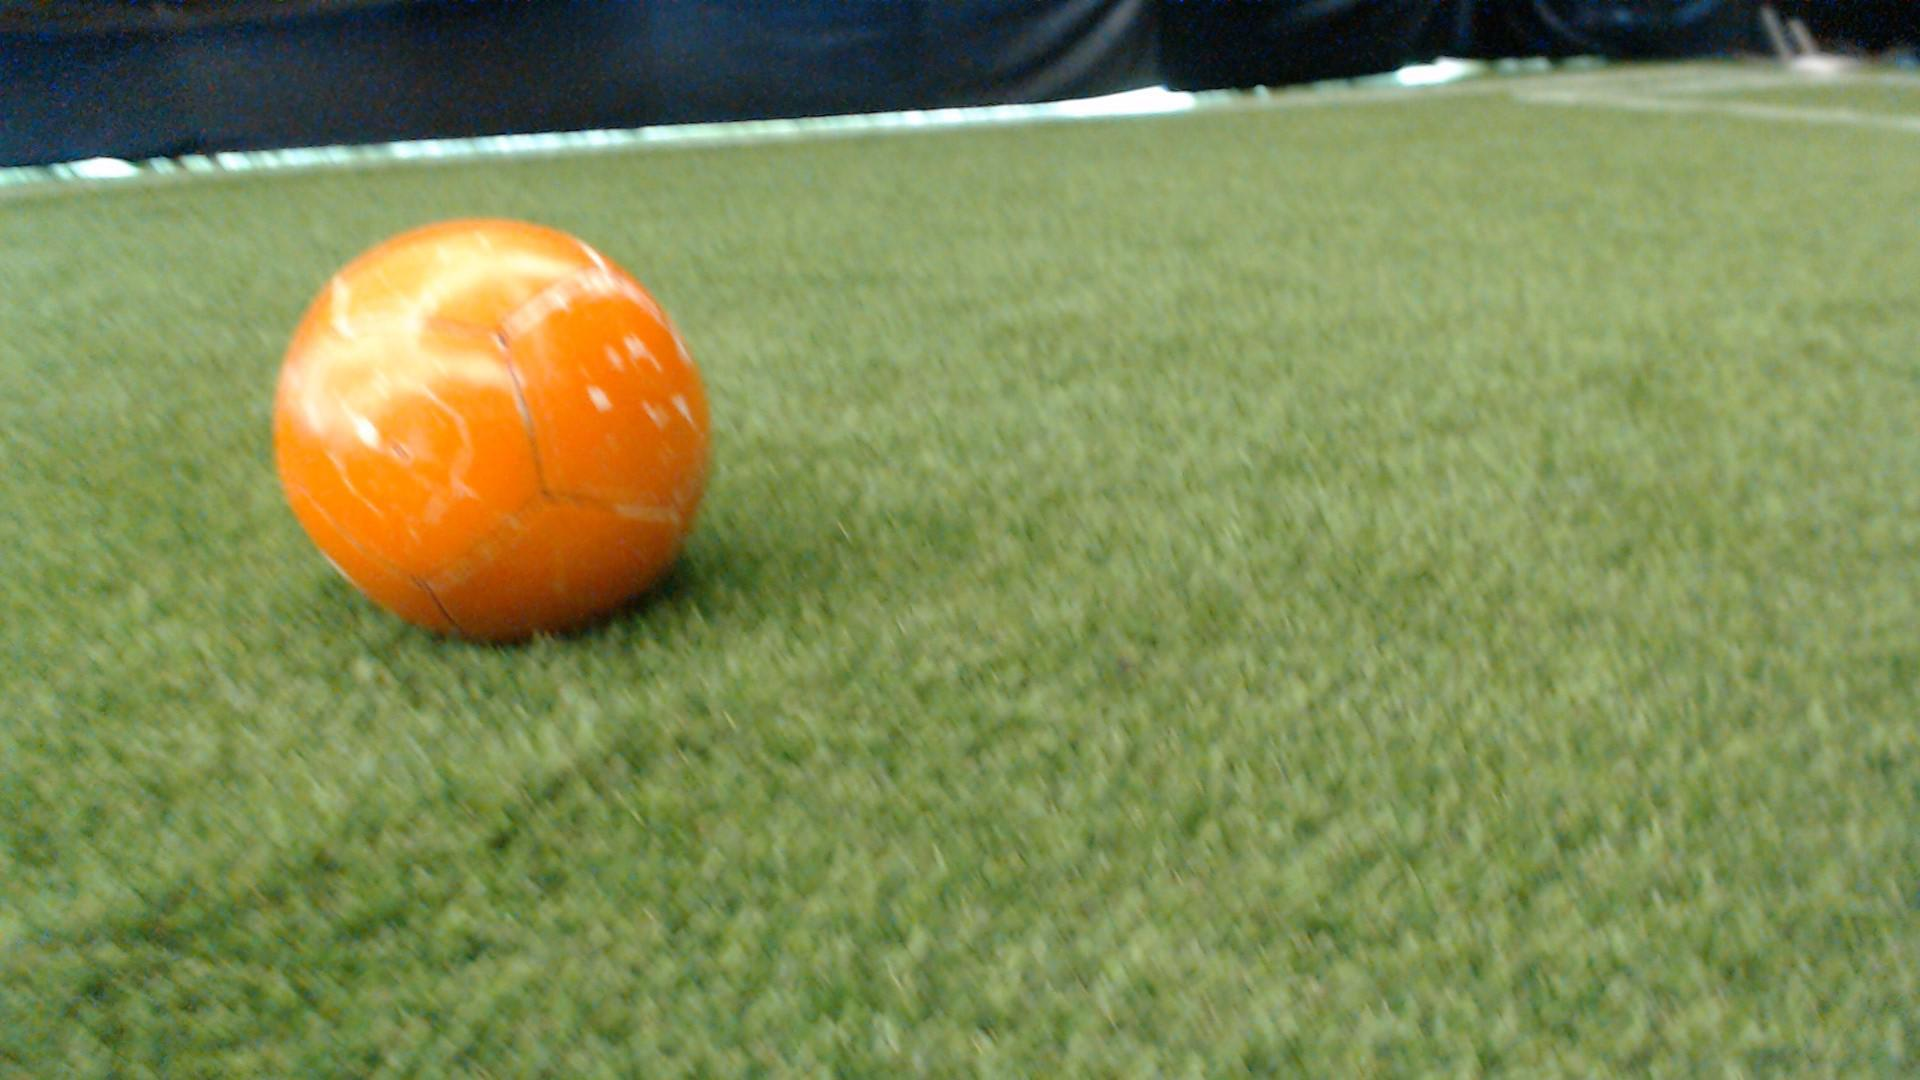bola: (235, 208, 737, 653)
